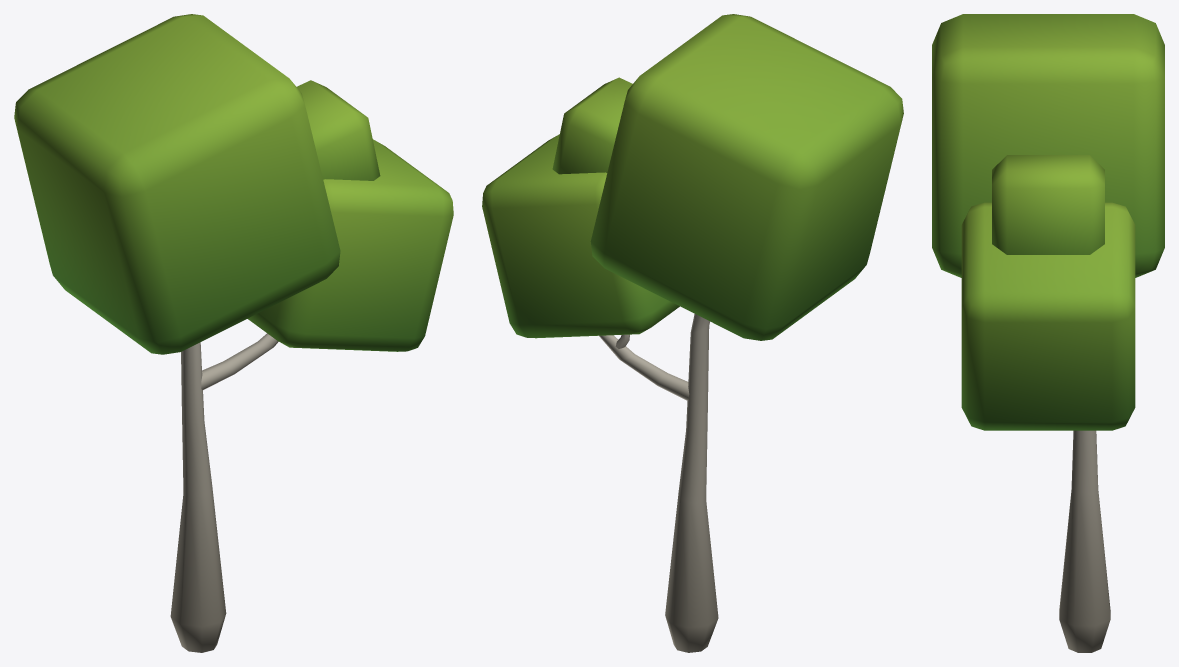
The model's file is tree-birch.glb.
3 renders of one model, left to right at view 1: azimuth 30°, elevation 25°; view 2: azimuth 150°, elevation 25°; view 3: azimuth 270°, elevation 25°, orthographic. The views are drawn at different scales.
Parts seen in each view (by area): view 1: tree.birch; view 2: tree.birch; view 3: tree.birch.
Part boxes in pixels (<box>): tree.birch: <box>14,14,453,652</box>; tree.birch: <box>482,14,903,652</box>; tree.birch: <box>932,14,1164,652</box>.
Size of the model in its own units: 3.7 by 6.04 by 2.1.
